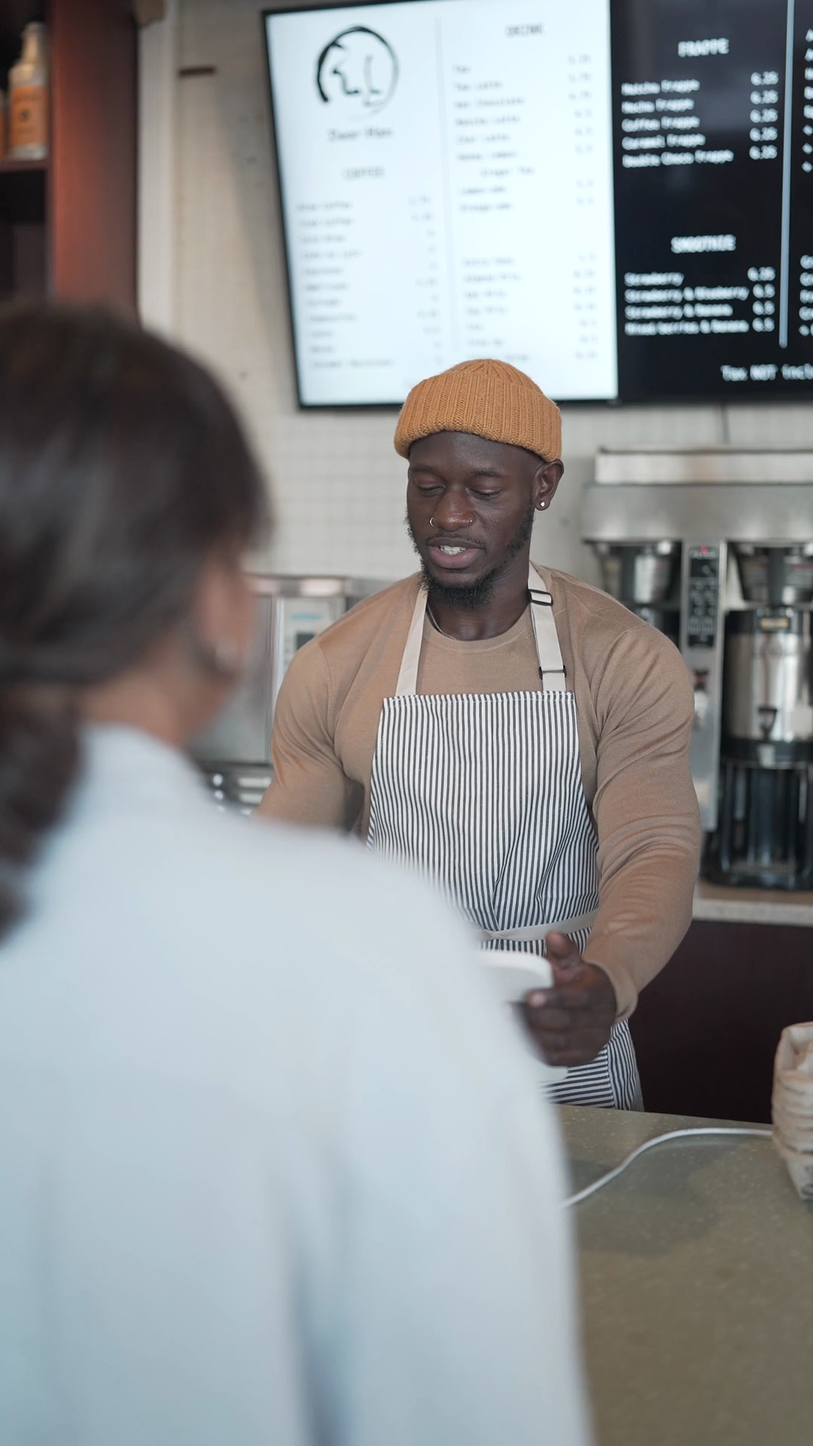dates_box: (240, 0, 813, 426), (591, 0, 798, 291)
watch: (415, 462, 813, 1363), (0, 508, 638, 1068), (280, 304, 719, 941), (434, 447, 813, 1099), (417, 810, 813, 1433), (352, 449, 813, 941), (288, 303, 715, 731), (543, 899, 813, 1444), (474, 900, 671, 1113)
